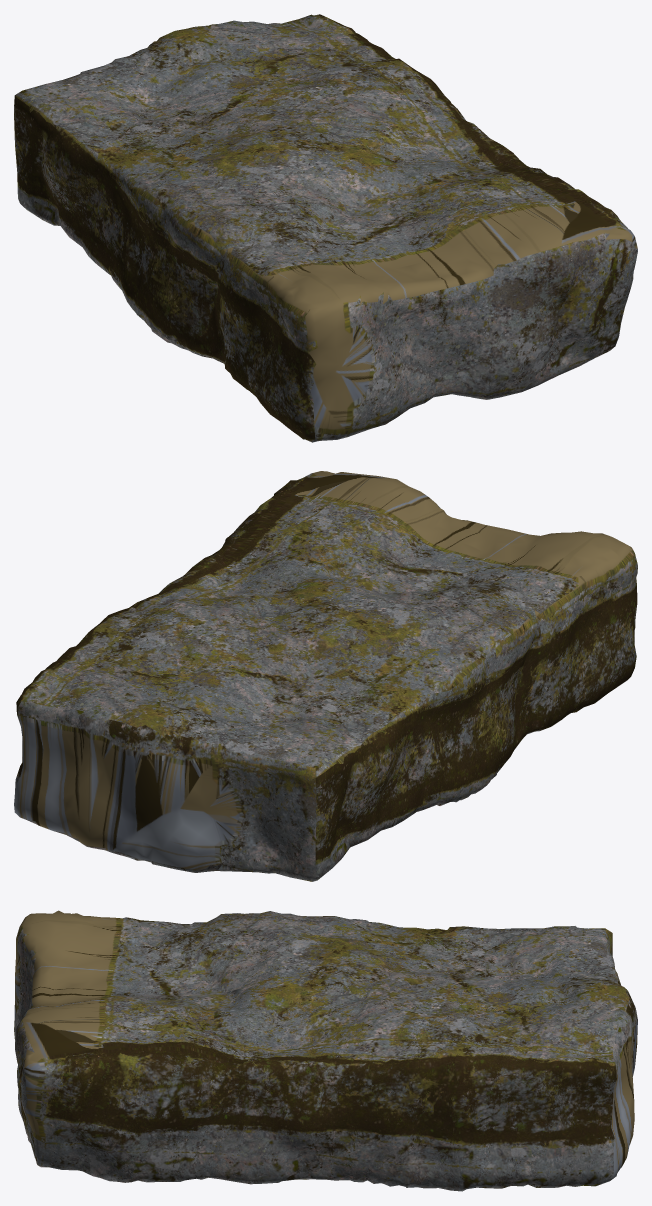
File: SM_StonePlate_D.fbx
3 renders of one model, top to bottom at view 1: azimuth 30°, elevation 25°; view 2: azimuth 150°, elevation 25°; view 3: azimuth 270°, elevation 25°, orthographic. The views are drawn at different scales.
Parts seen in each view (by area): view 1: SM_StonePlate_D_LOD0; view 2: SM_StonePlate_D_LOD0; view 3: SM_StonePlate_D_LOD0.
Boxes of the visible parts, <box> form: SM_StonePlate_D_LOD0: <box>14,14,637,442</box>; SM_StonePlate_D_LOD0: <box>14,471,637,881</box>; SM_StonePlate_D_LOD0: <box>14,910,637,1191</box>.
Bounding box in the file's own units: 377 × 623 × 168.
